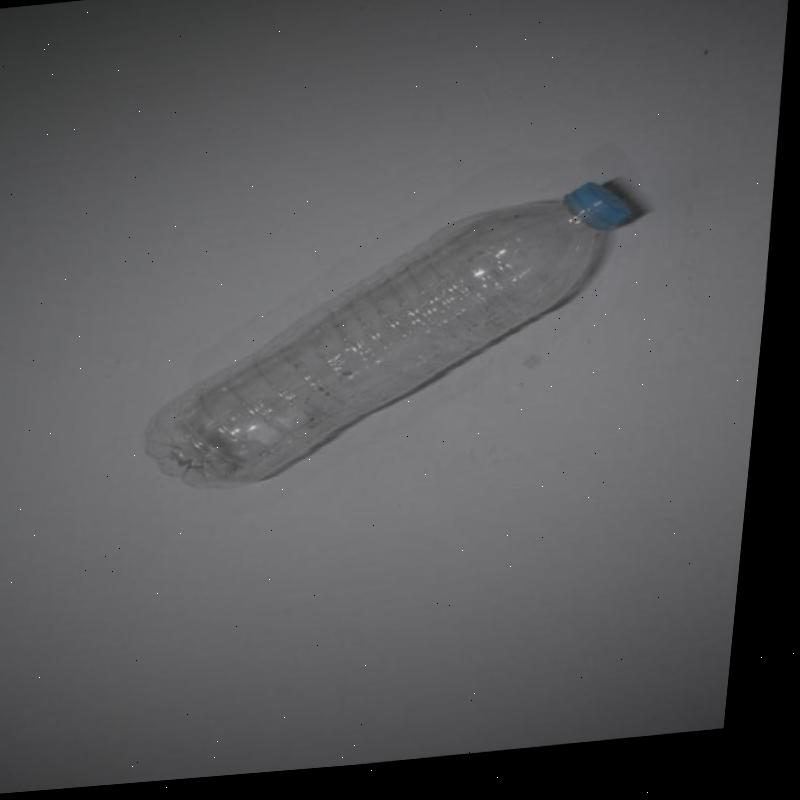botella: (144, 183, 654, 501)
